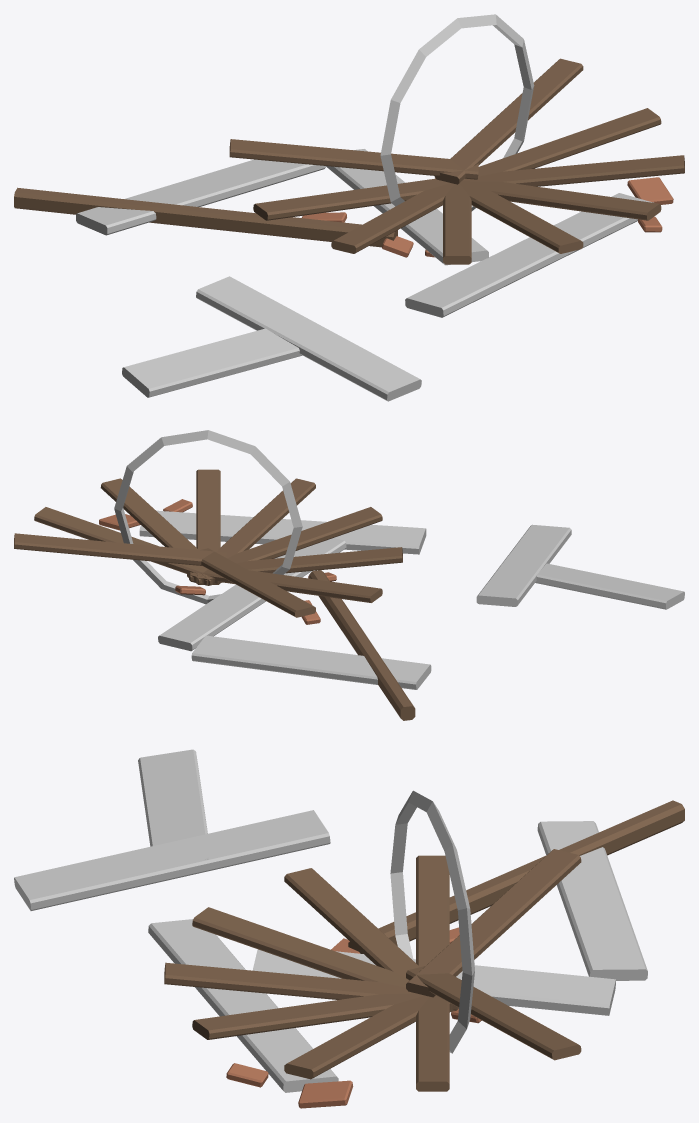
The model's file is debris.glb.
3 renders of one model, top to bottom at view 1: azimuth 30°, elevation 25°; view 2: azimuth 150°, elevation 25°; view 3: azimuth 270°, elevation 25°, orthographic. The views are drawn at different scales.
Visible parts, largest first — view 1: debris; view 2: debris; view 3: debris.
Part boxes in pixels (bbox=[...]): debris: bbox=[14, 14, 684, 401]; debris: bbox=[14, 430, 684, 720]; debris: bbox=[14, 749, 684, 1108].
Size of the model in its own units: 2.05 by 0.636 by 1.6.
